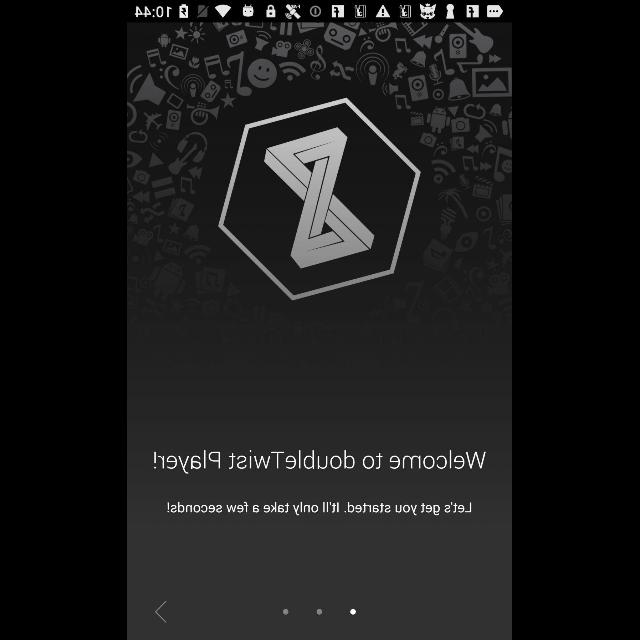icon: (156, 600, 168, 624)
image: (128, 23, 512, 361)
pageindicator: (283, 608, 357, 616)
text: (155, 450, 487, 474), (168, 501, 472, 517)
uppertaskbar: (128, 1, 512, 23)
